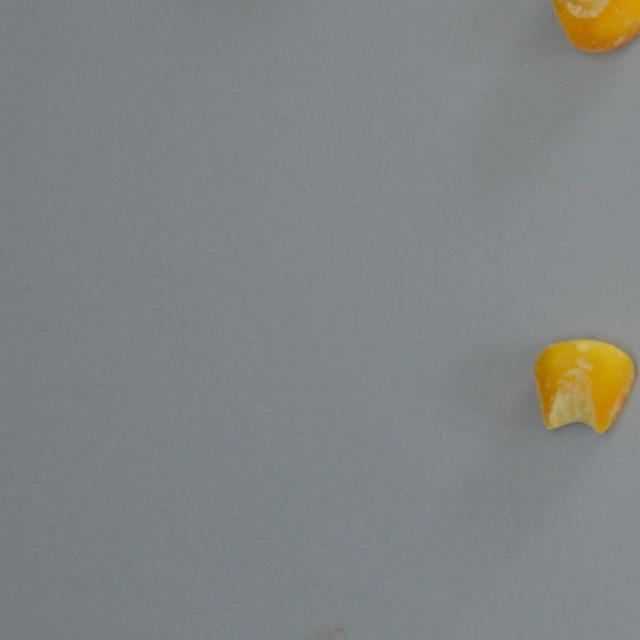pelicula: (534, 339, 636, 434), (549, 0, 640, 54)
